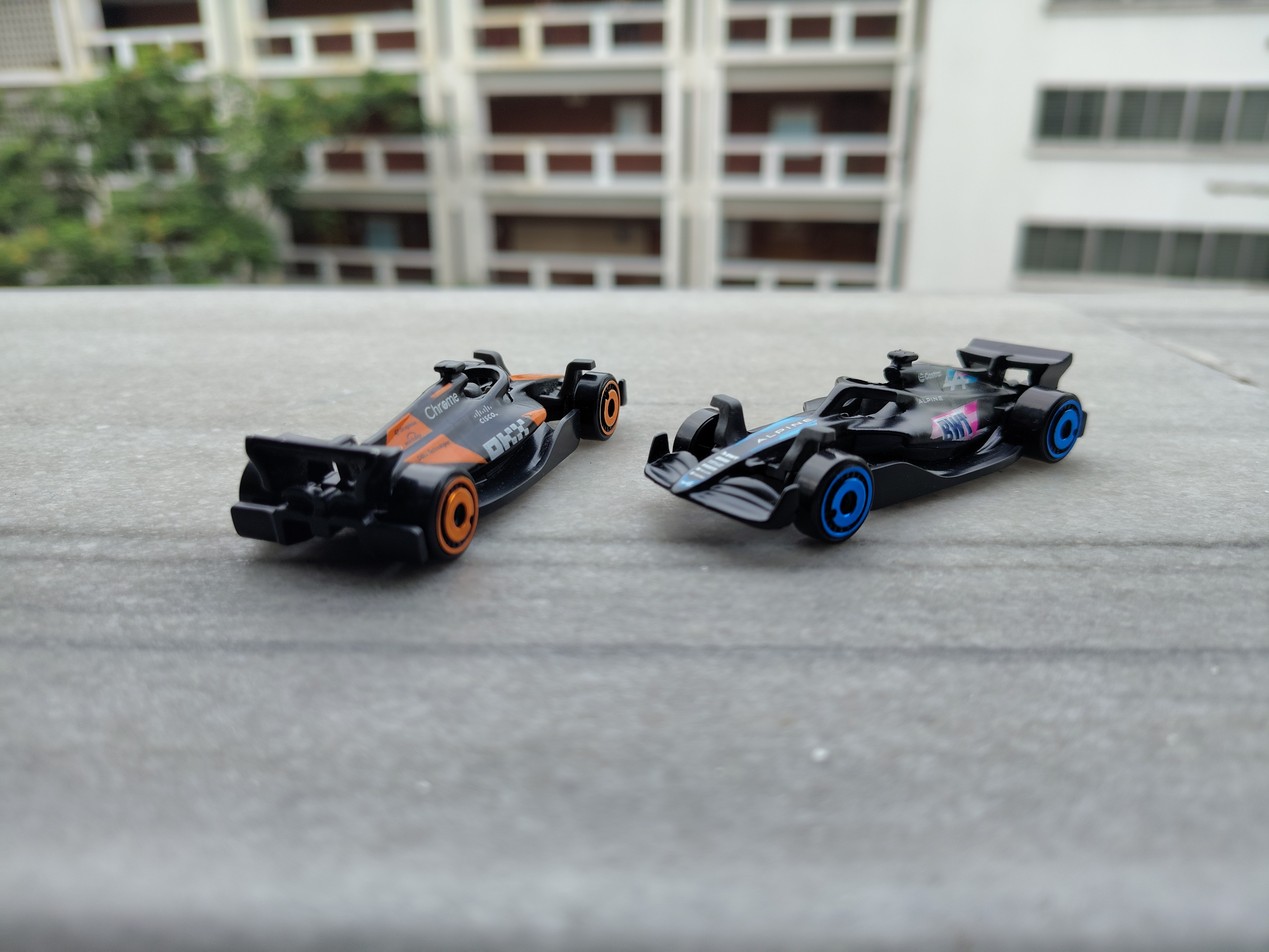Alpine A524: (618, 321, 1108, 566)
McLaren MCL40: (153, 273, 657, 595)
